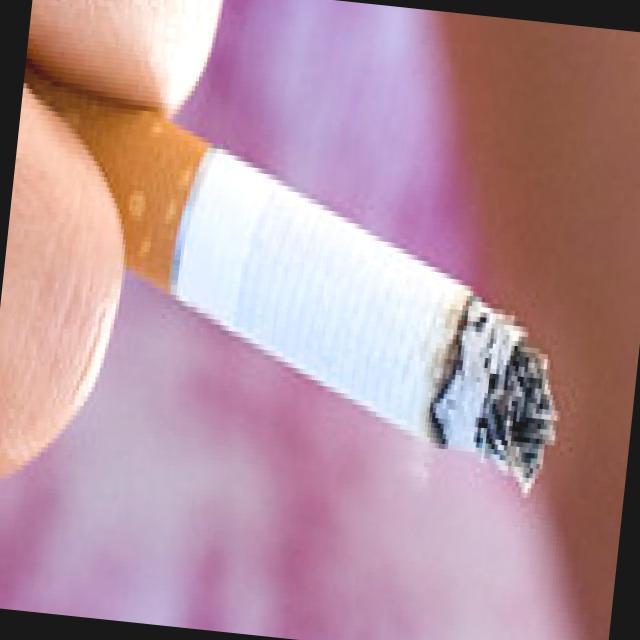cigarette: (160, 143, 584, 503)
